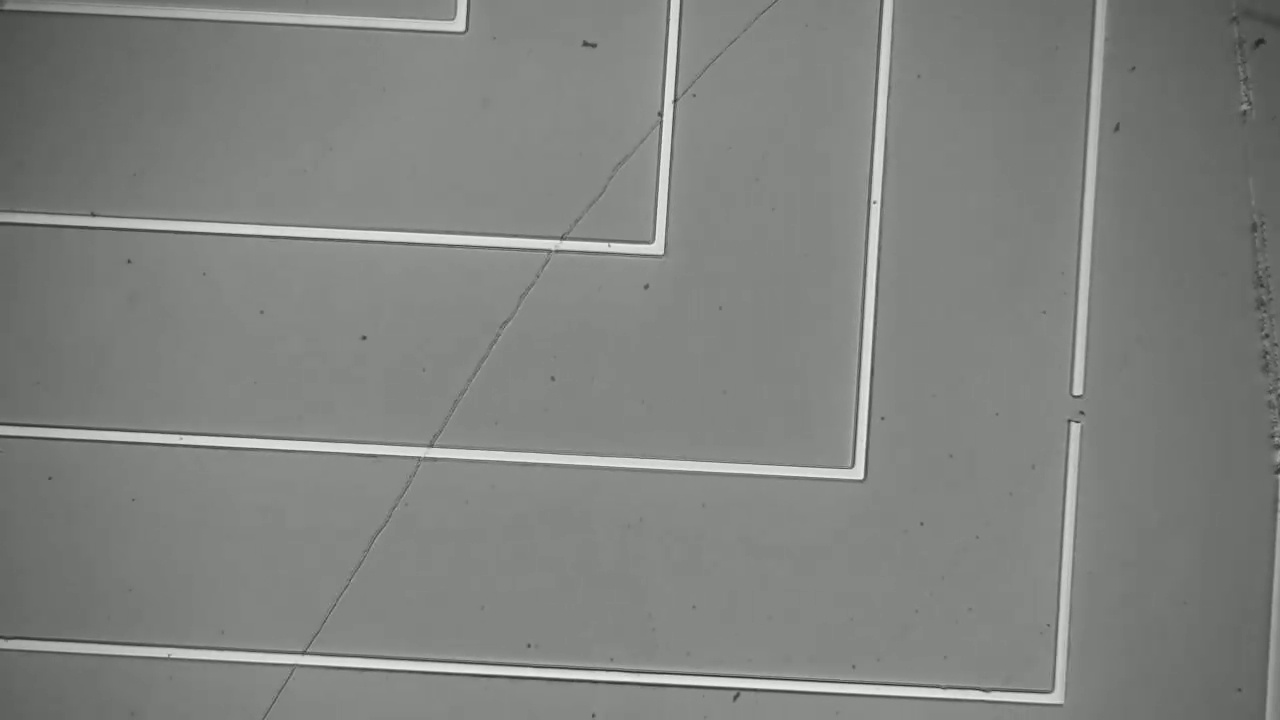scratch: (254, 4, 782, 720), (1210, 4, 1268, 485), (1050, 370, 1099, 443)
